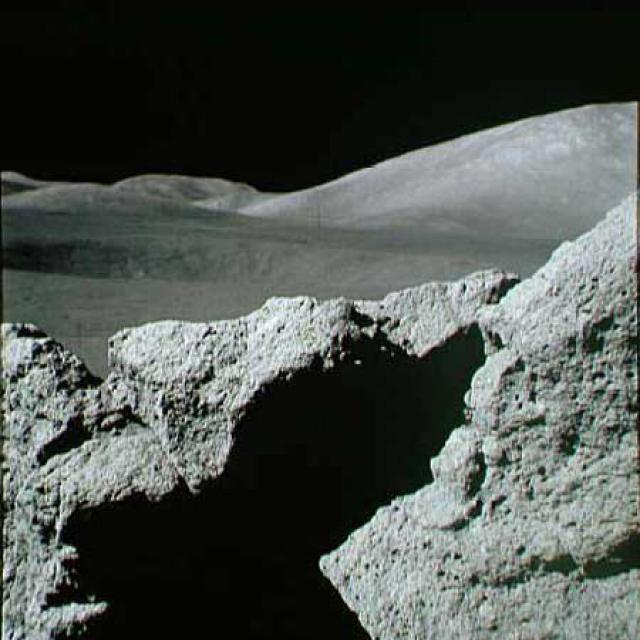crater: (6, 217, 468, 293)
rock: (0, 192, 639, 639)
